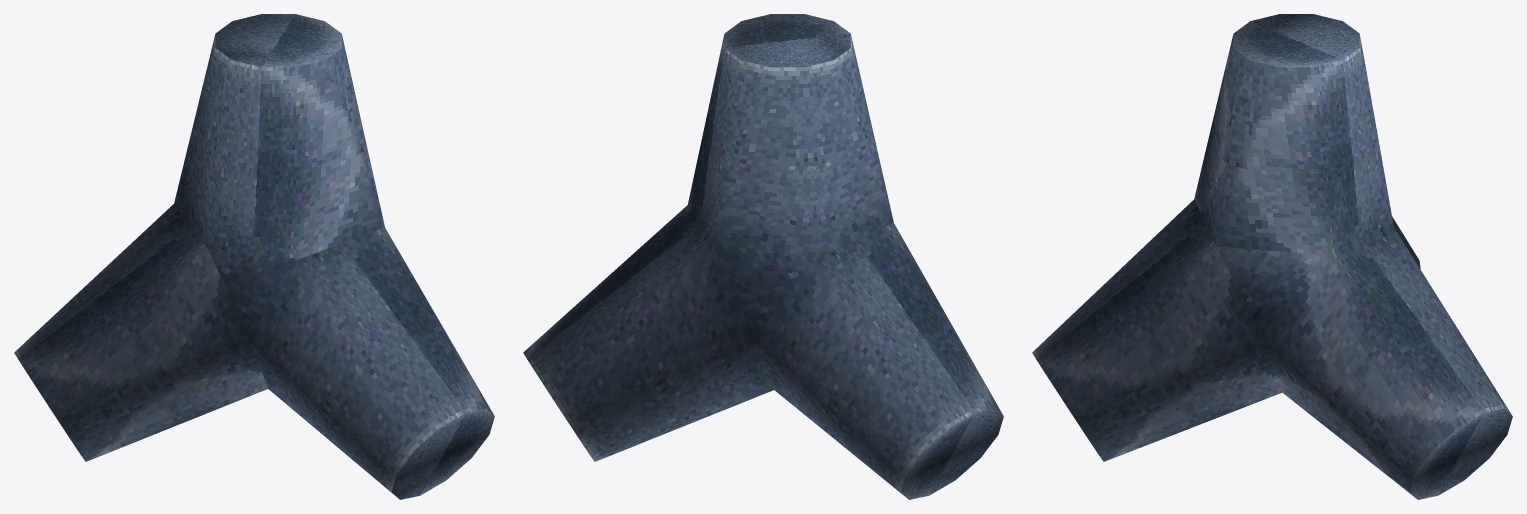
Rendered from int_isl_block.dae.
The picture shows the model from 3 angles, left to right: view 1: azimuth 30°, elevation 25°; view 2: azimuth 150°, elevation 25°; view 3: azimuth 270°, elevation 25°; orthographic projection.
Parts seen in each view (by area): view 1: int_isl_block; view 2: int_isl_block; view 3: int_isl_block.
Part boxes in pixels (<box>): int_isl_block: <box>14,14,494,499</box>; int_isl_block: <box>523,14,1003,499</box>; int_isl_block: <box>1032,14,1512,499</box>.
Size of the model in its own units: 57.6 by 51.71 by 57.27.
Materials: 1 (1 with a texture image).
